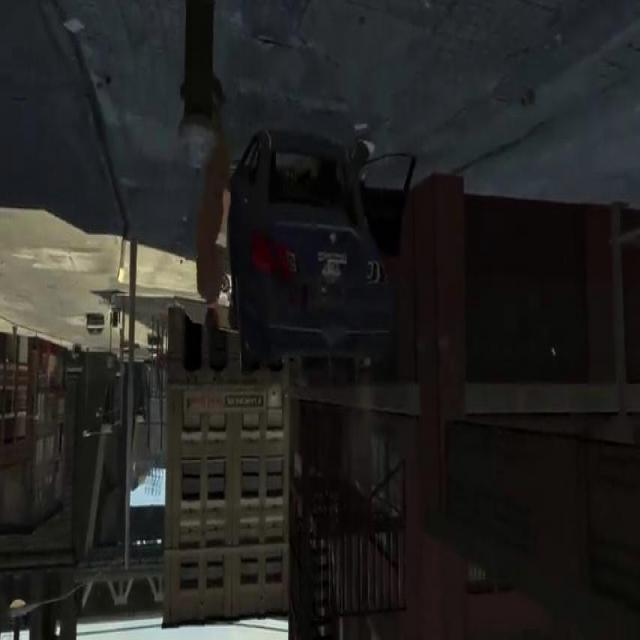severe: (222, 110, 411, 378)
